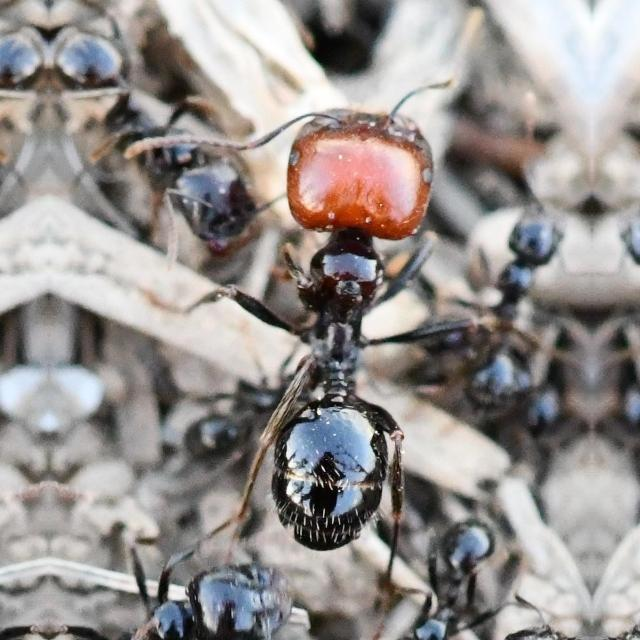Messor: (213, 113, 429, 587), (48, 0, 274, 274), (422, 200, 582, 408), (48, 511, 272, 639), (187, 294, 336, 466), (392, 498, 518, 638), (0, 0, 48, 274), (600, 199, 640, 408), (0, 511, 48, 639)
